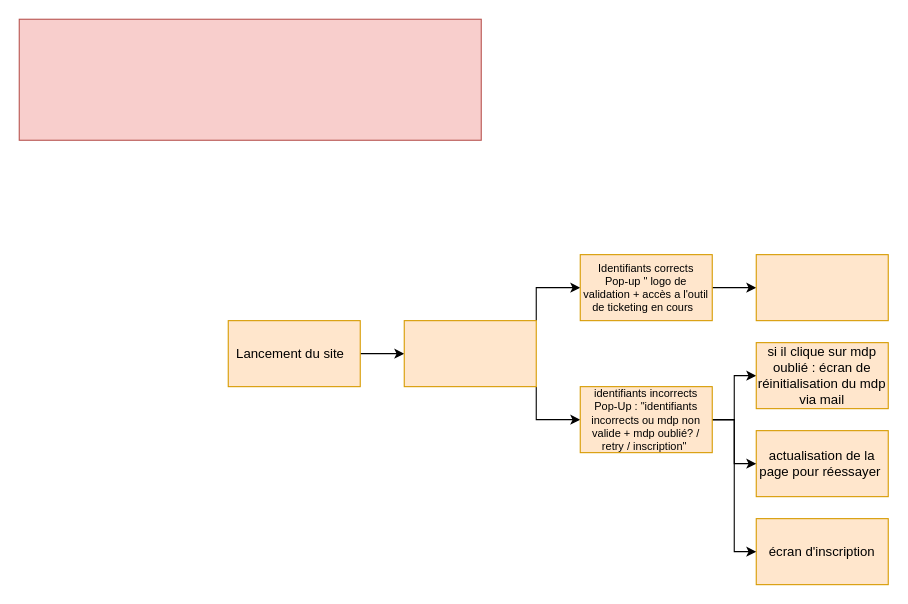
This 908x604 diagram has some shape labels left out. The shapes that lost their labels are listed below. From the top down, each one's centre as x and y in pixels, then its label:
the point at 249,79: Méthodologie d'écran d'inscription / acceuil / connection
the point at 821,287: Connection
the point at 469,353: arrivé sur la page de connection
